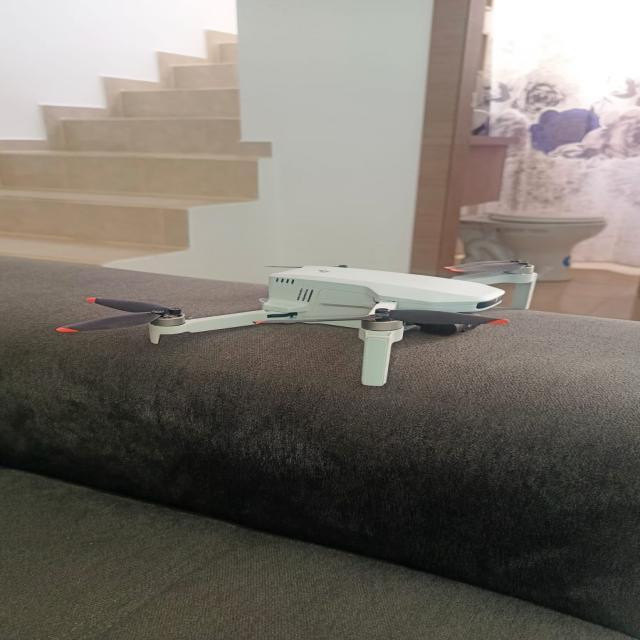dron: (54, 231, 592, 398)
